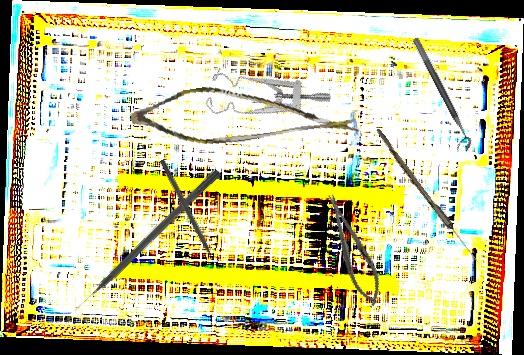Fixation Ring: (402, 36, 476, 156)
Hook Surgical: (158, 158, 219, 269)
Micro Scissor: (128, 63, 364, 167)
Needle Holder: (317, 188, 390, 311)
Pusher: (70, 167, 222, 314)
Speculum: (199, 45, 333, 156)
Surgical Spoon: (372, 128, 482, 264)
